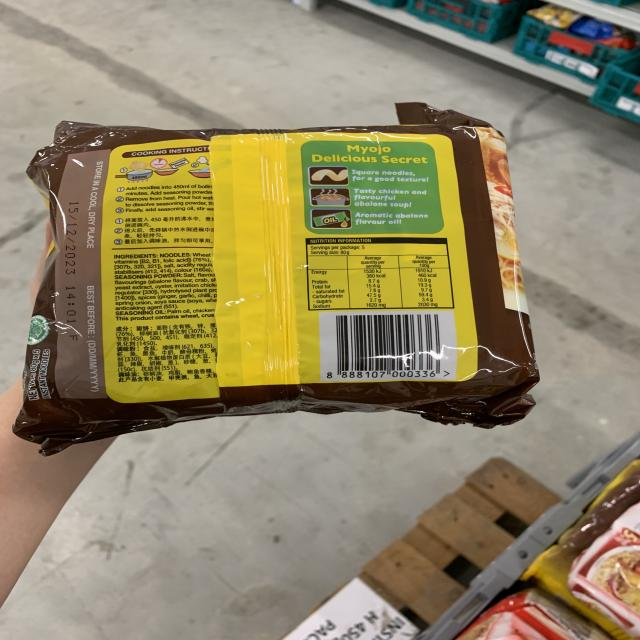object_name: (53, 142, 515, 415)
